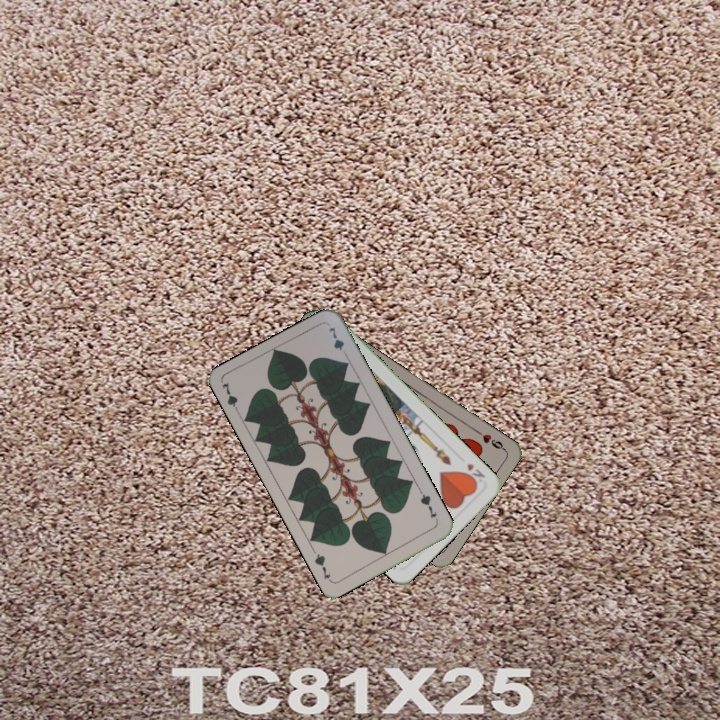G7: (217, 378, 243, 418), (416, 487, 439, 521)
H9: (471, 425, 508, 453)
HK: (460, 459, 488, 487)
